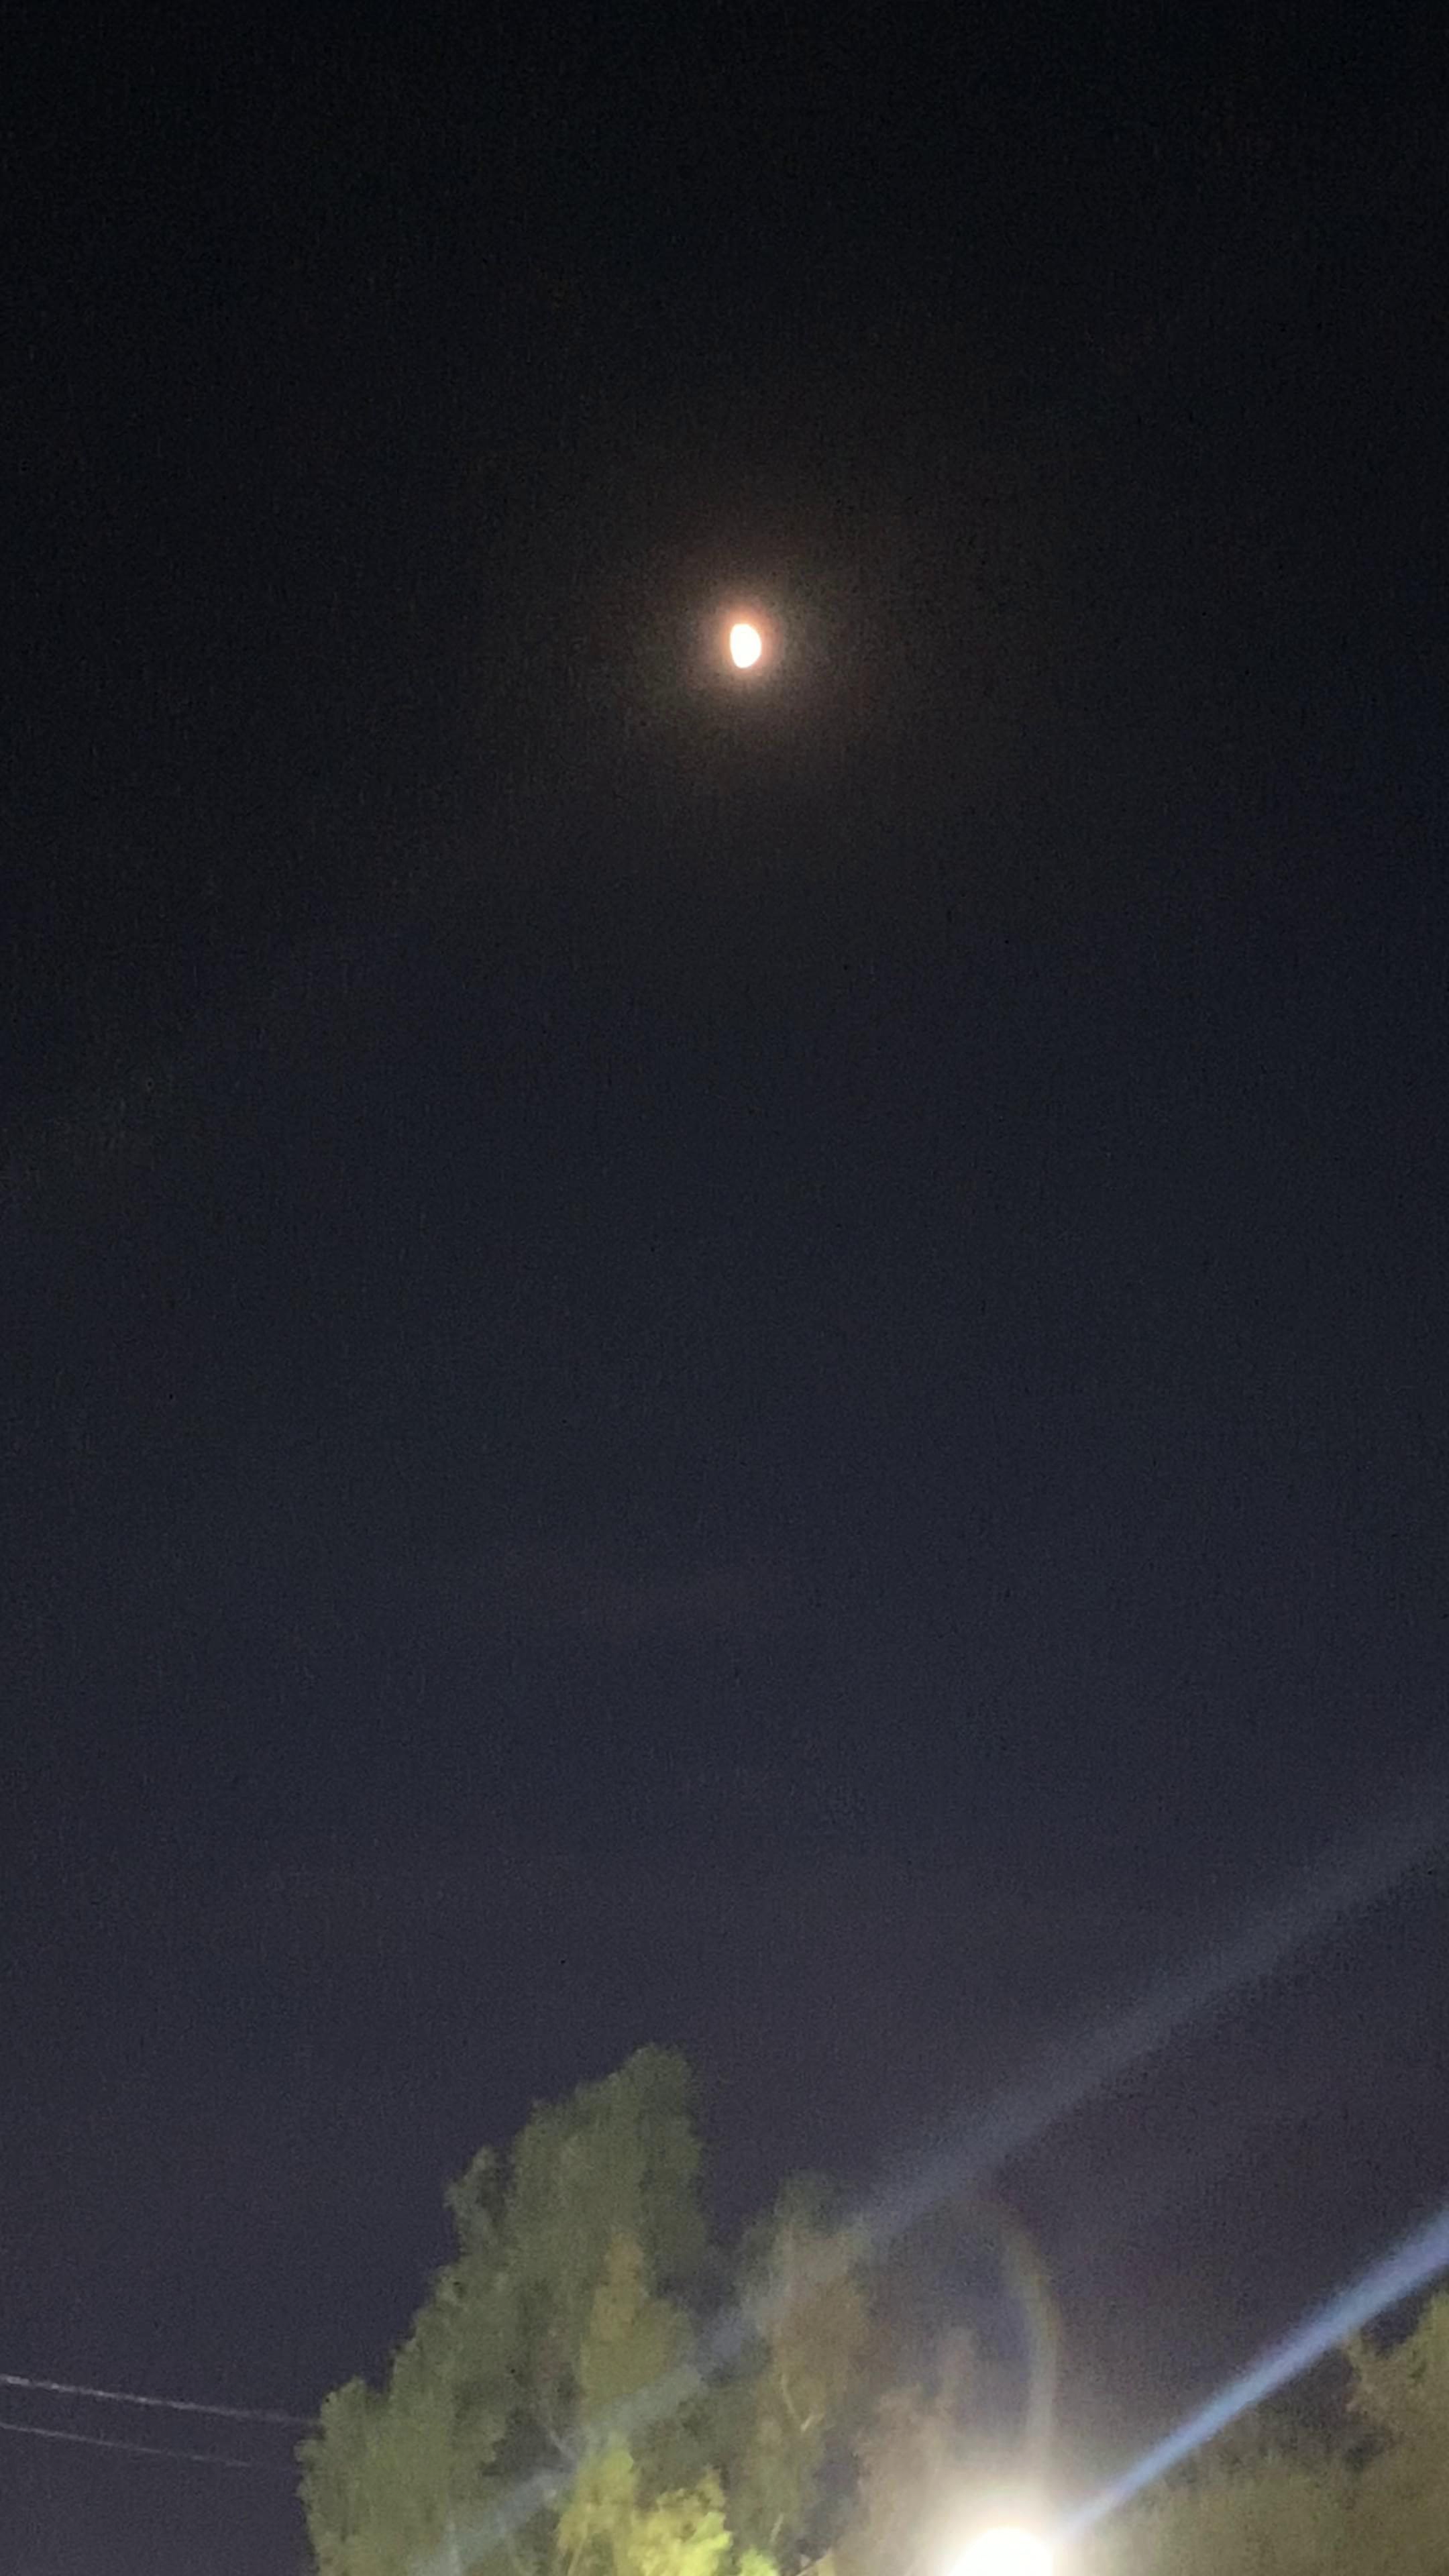moon: (683, 579, 810, 692)
